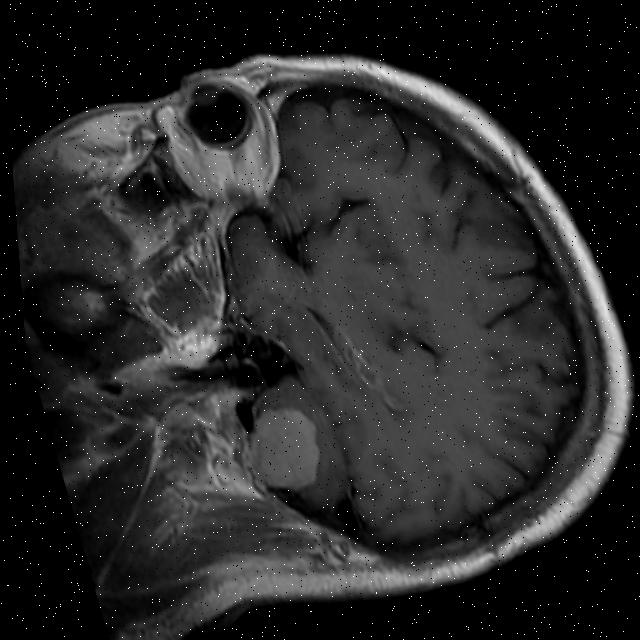Meningioma: (236, 396, 336, 502)
